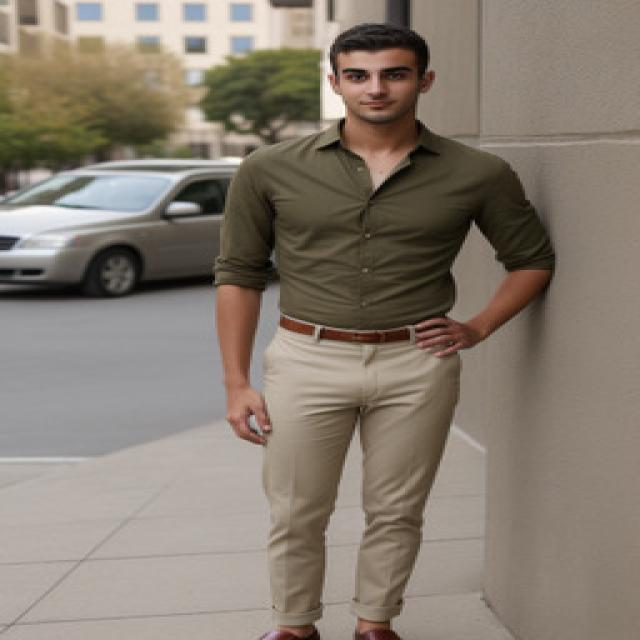Ai human 2: (198, 15, 560, 640)
